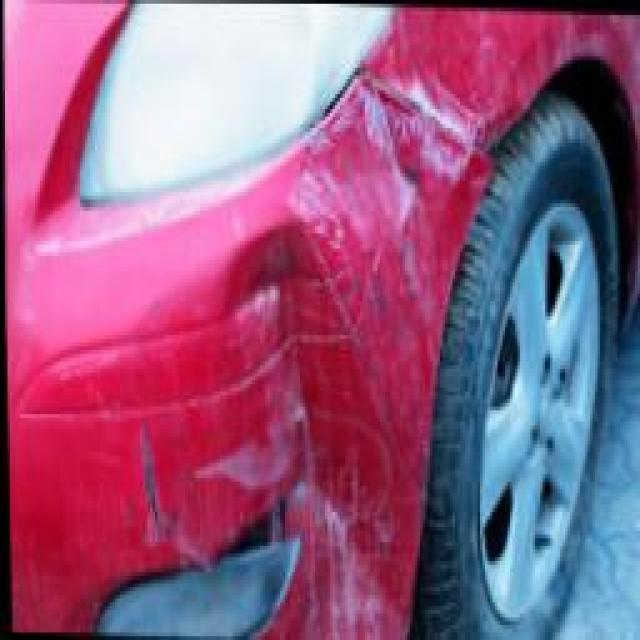Bumper: (7, 66, 490, 640)
Fender: (364, 6, 598, 152)
